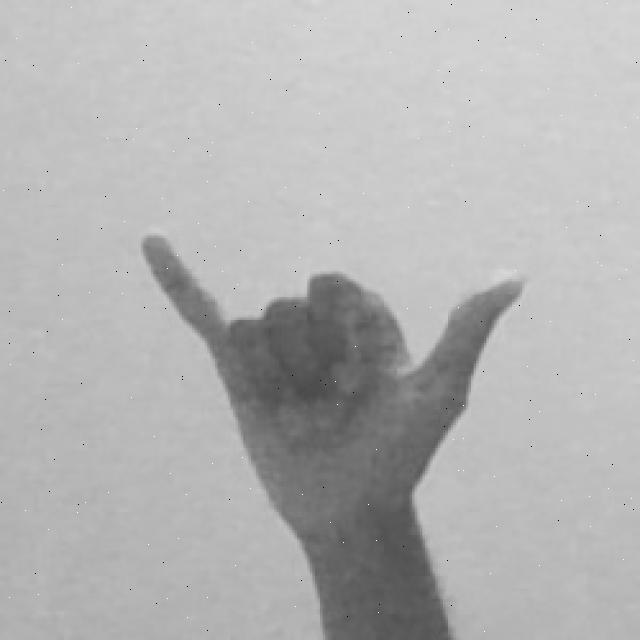Y: (136, 225, 530, 640)
